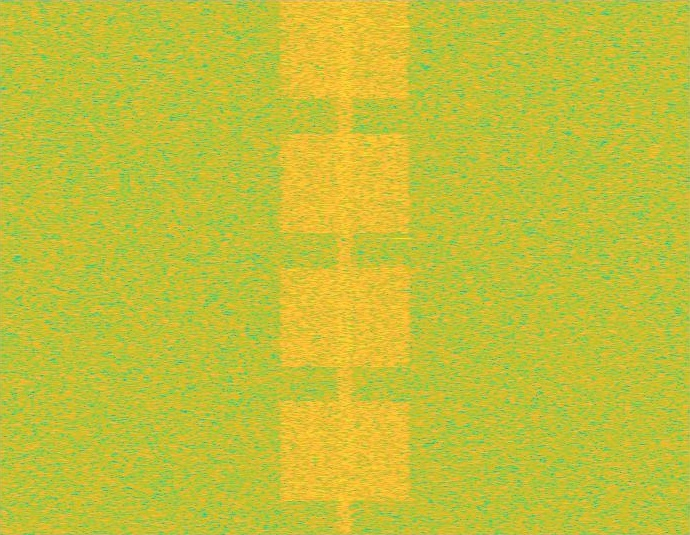5G: (276, 0, 414, 534)
DSSS: (336, 0, 354, 534)
Radar: (395, 0, 408, 534)
